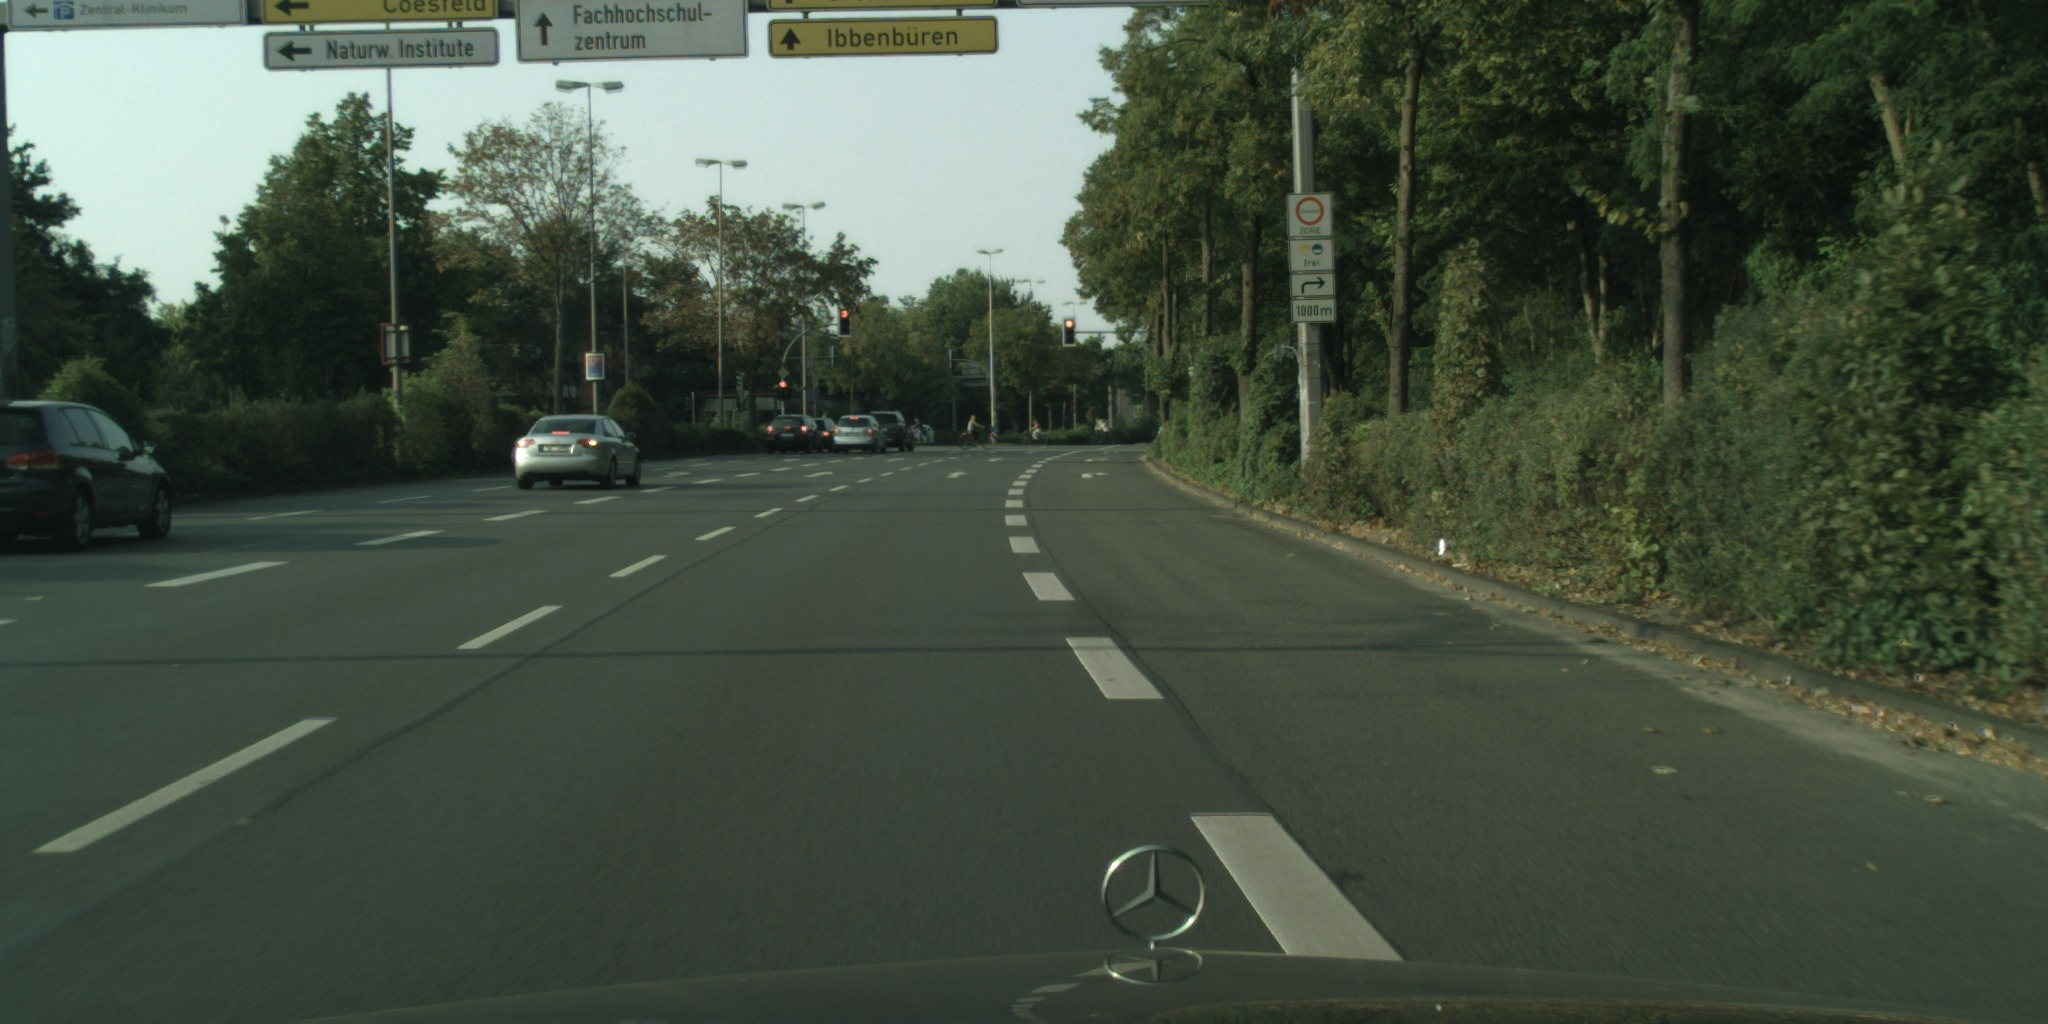bicycle: (957, 427, 996, 450), (1020, 429, 1051, 448)
car: (1, 399, 175, 554), (513, 414, 643, 491), (765, 413, 825, 455), (863, 410, 915, 454), (832, 414, 887, 455), (802, 417, 840, 454), (907, 423, 935, 446)
person: (820, 409, 829, 423)
rider: (967, 415, 984, 443), (1032, 418, 1040, 441)
